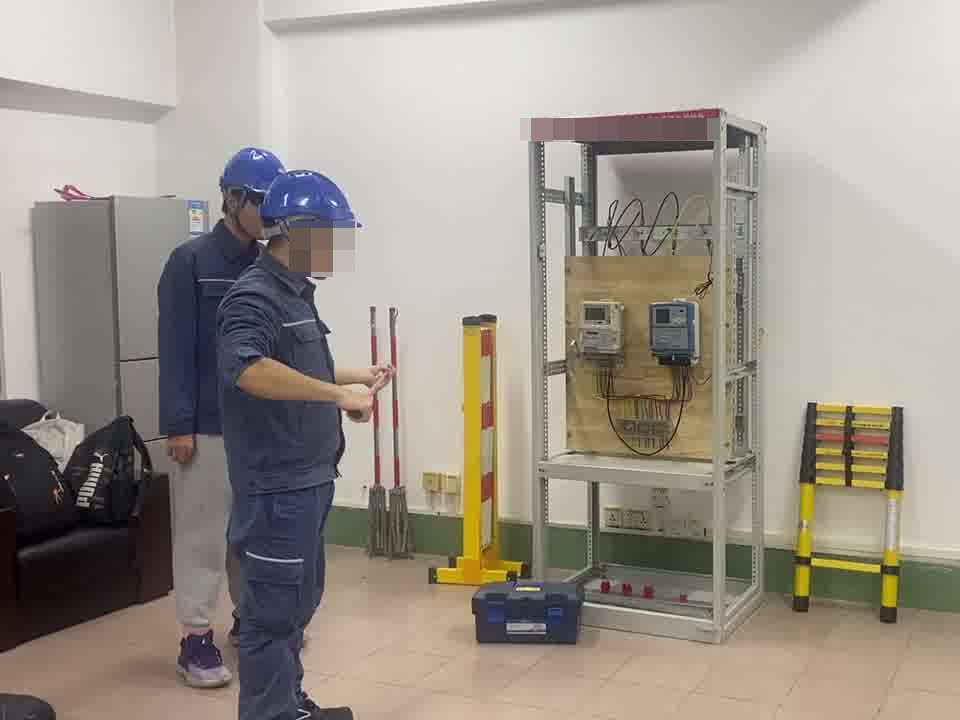downcloth: (166, 433, 244, 627)
downsuit: (218, 484, 338, 719)
halt: (260, 168, 360, 280), (217, 145, 286, 240)
hand: (336, 382, 377, 424), (166, 431, 196, 464), (358, 362, 396, 384)
inear: (279, 218, 324, 264), (218, 185, 246, 221)
person: (156, 139, 388, 719)
upsuit: (219, 251, 356, 488), (160, 235, 269, 431)
wrongtop: (220, 354, 378, 424)
